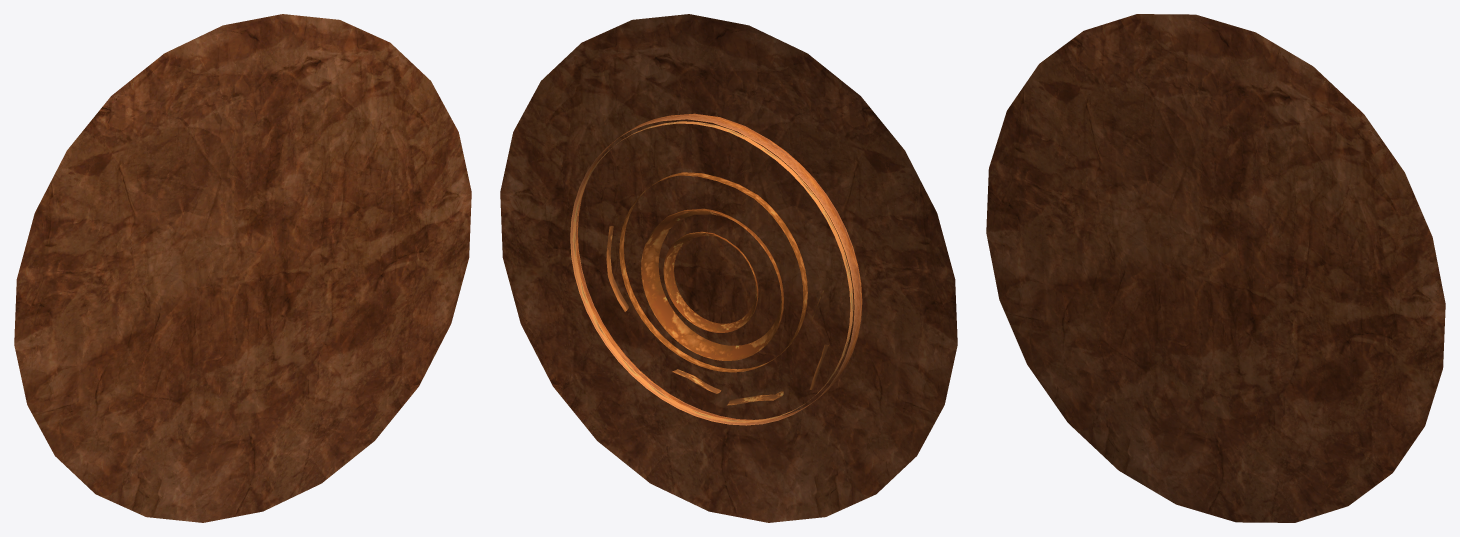
3 views of the same model, side by side, from view 1: azimuth 30°, elevation 25°; view 2: azimuth 150°, elevation 25°; view 3: azimuth 330°, elevation 25° (orthographic).
Parts seen in each view (by area): view 1: s10_bgShape00; view 2: s10_bgShape00 (×6); view 3: s10_bgShape00.
Boxes of the visible parts, x1,y1,x2,y2 form: s10_bgShape00: (14, 14, 471, 522); s10_bgShape00 (×6): (500, 14, 957, 522); s10_bgShape00: (986, 14, 1445, 522).
Bounding box in the file's own units: 37312 × 2534 × 38646.
Materials: 6 (6 with a texture image).
